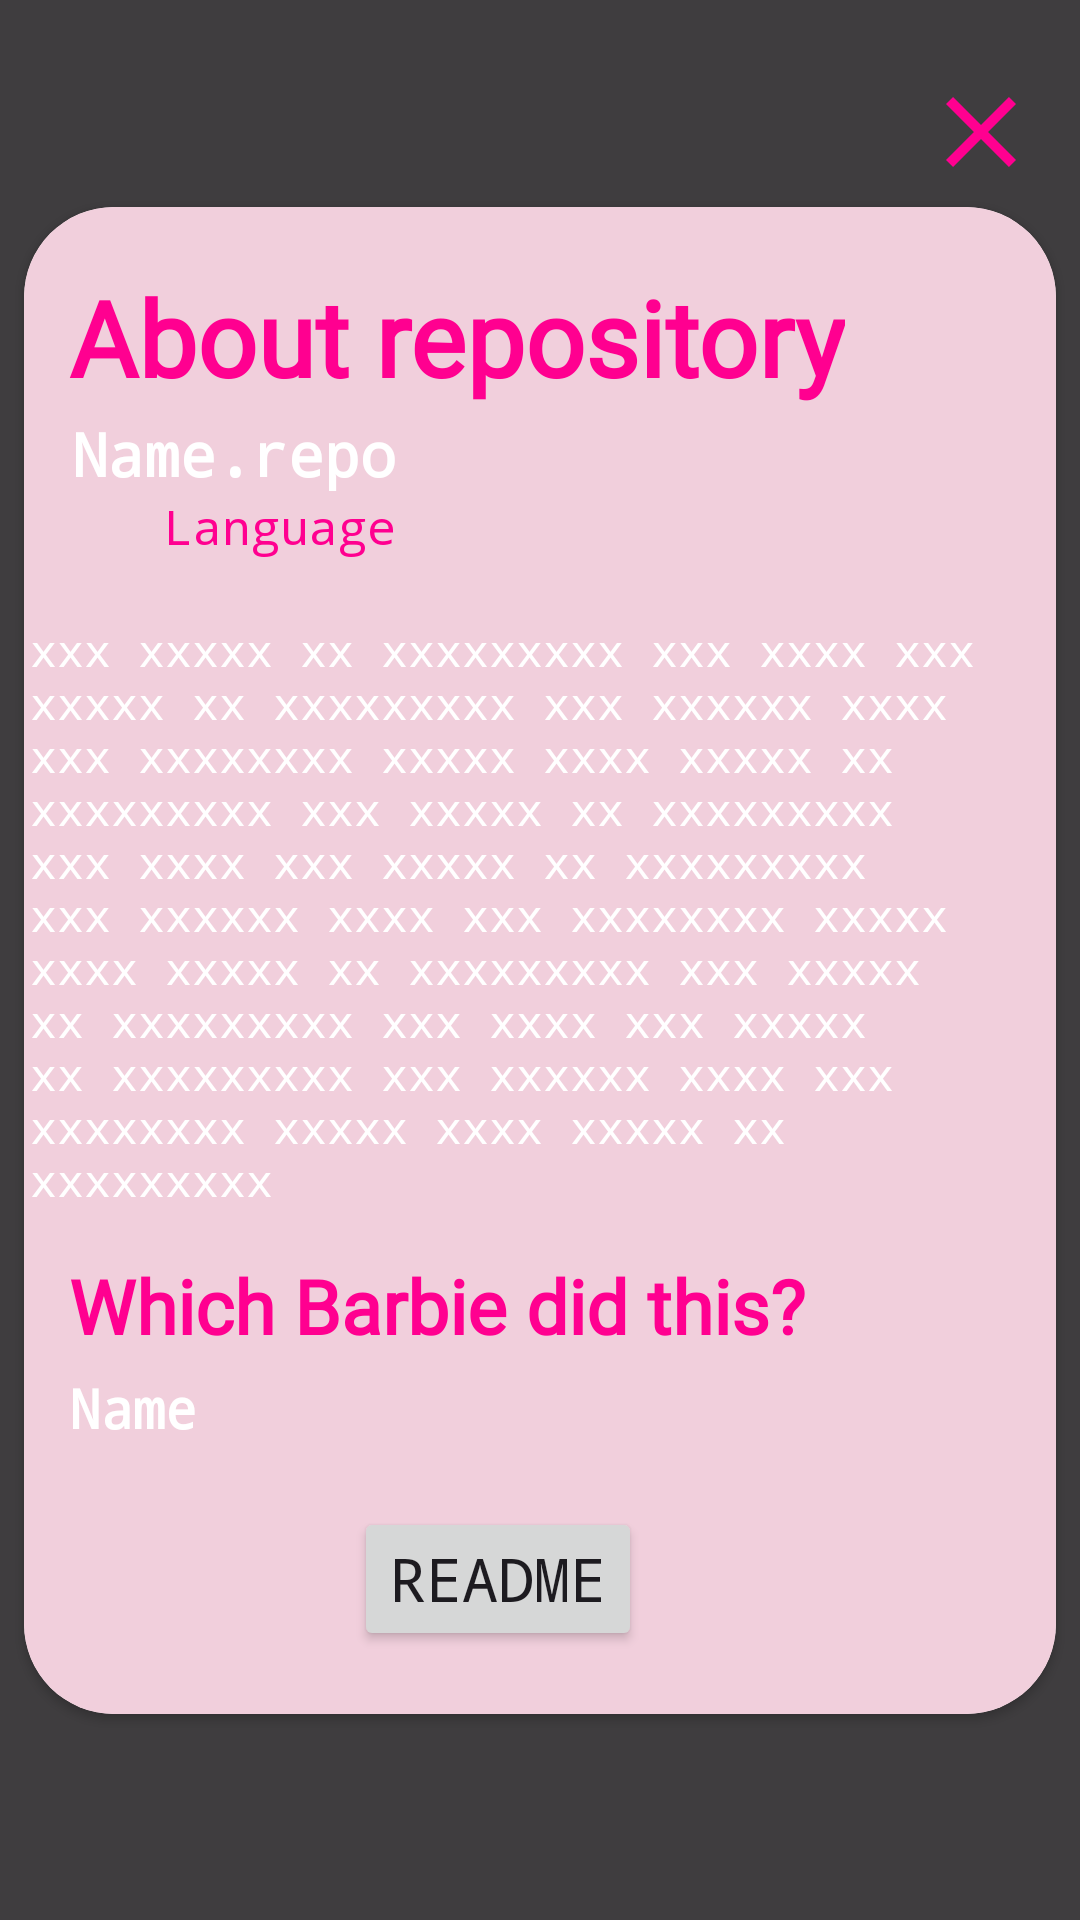

Icons on this 1080x1920 Android screen, each with the point to tap as point (x, y):
clear: point (981, 132)
